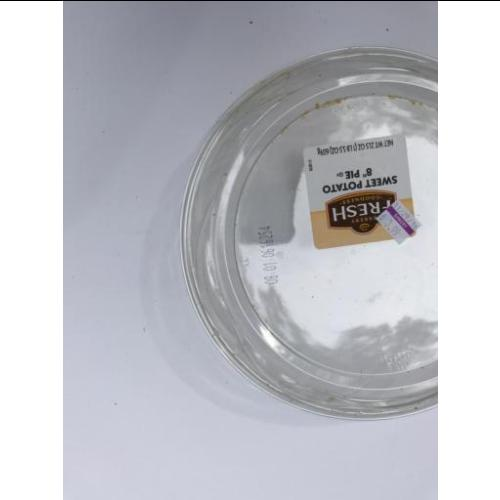plastic: (181, 51, 438, 422)
